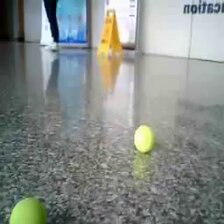tennis: (10, 196, 44, 224), (134, 125, 154, 153)
